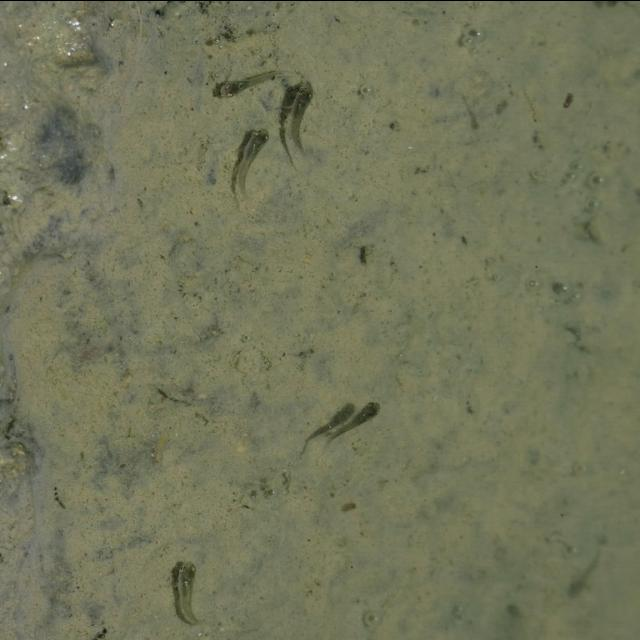Sivrisinek Baligi: (300, 395, 386, 461), (276, 78, 316, 170), (223, 126, 271, 200), (162, 556, 212, 626), (212, 64, 284, 102)
